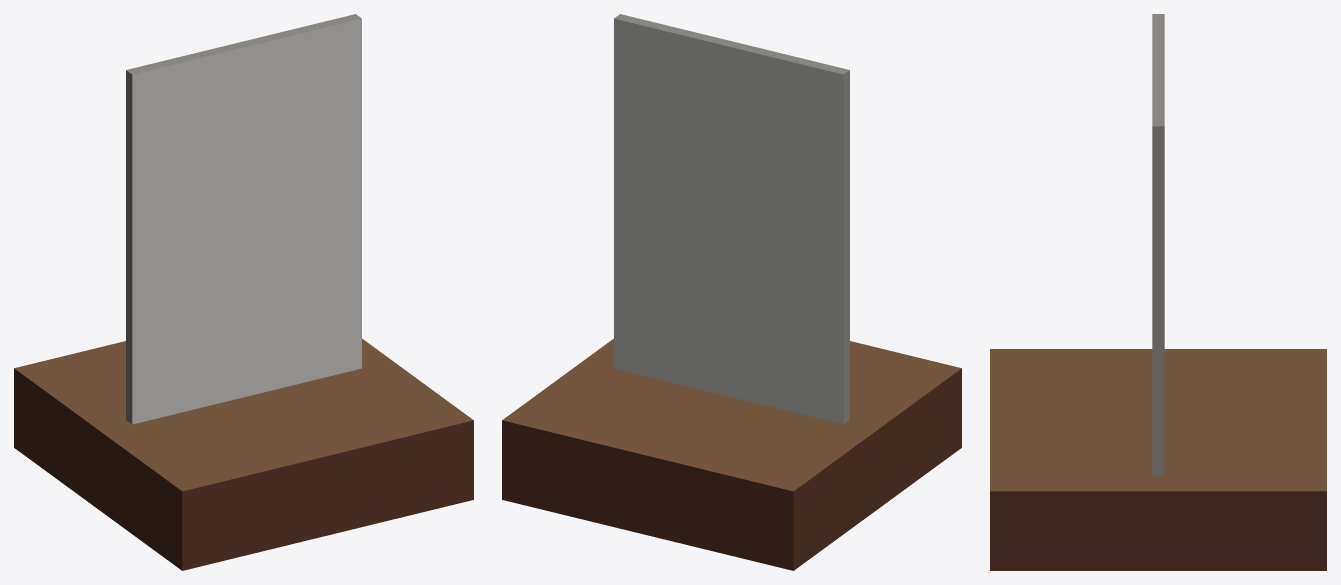
Rendered from QR_TableCard_01.glb.
3 views of the same model, side by side, from view 1: azimuth 30°, elevation 25°; view 2: azimuth 150°, elevation 25°; view 3: azimuth 270°, elevation 25° (orthographic).
Visible parts, largest first — view 1: QR_TableCard_01; view 2: QR_TableCard_01; view 3: QR_TableCard_01.
Part boxes in pixels (box(x1,y1,x2,y2)): QR_TableCard_01: box(14, 14, 473, 570); QR_TableCard_01: box(502, 14, 961, 570); QR_TableCard_01: box(990, 14, 1326, 570).
Size of what is drawn, in the model's own units: 0.4342 by 0.6113 by 0.4342.
Materials: 1 (1 with a texture image).
